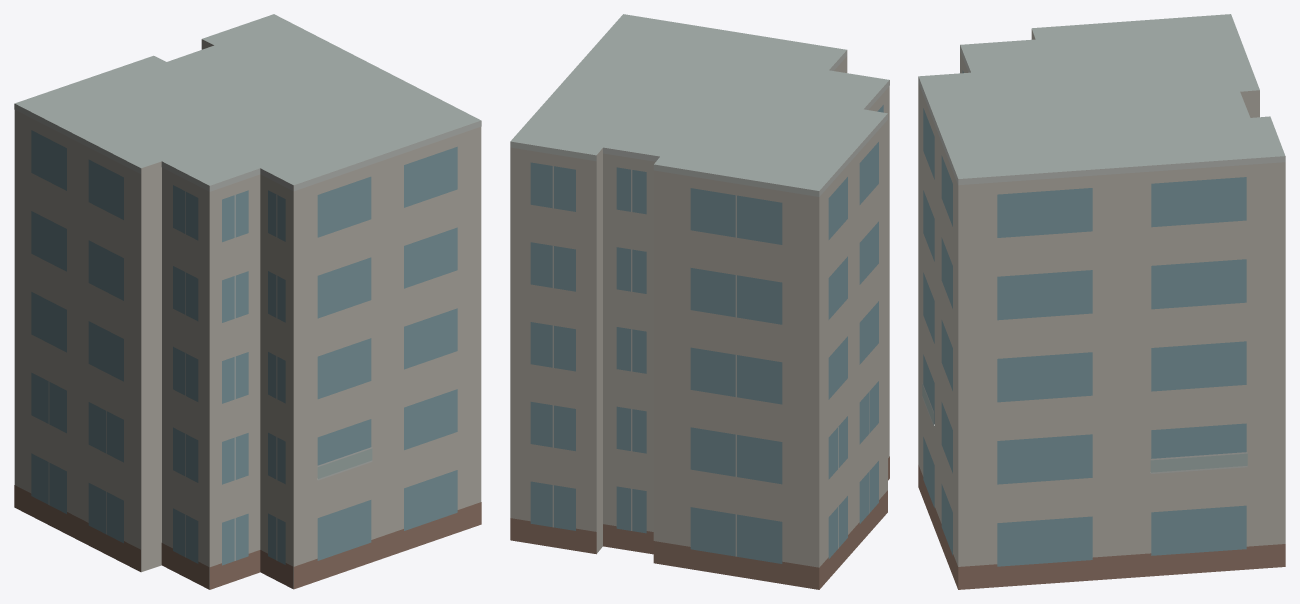
File: survey-upis-32930273.glb
3 views of the same model, side by side, from view 1: azimuth 30°, elevation 25°; view 2: azimuth 150°, elevation 25°; view 3: azimuth 270°, elevation 25° (orthographic). The views are drawn at different scales.
Visible parts, largest first — view 1: survey-upis-32930273.tmp; view 2: survey-upis-32930273.tmp; view 3: survey-upis-32930273.tmp.
Part boxes in pixels (<box>): survey-upis-32930273.tmp: <box>14,14,481,589</box>; survey-upis-32930273.tmp: <box>510,14,889,589</box>; survey-upis-32930273.tmp: <box>918,14,1285,589</box>.
Bounding box in the file's own units: 14.06 × 16.3 × 13.21.
